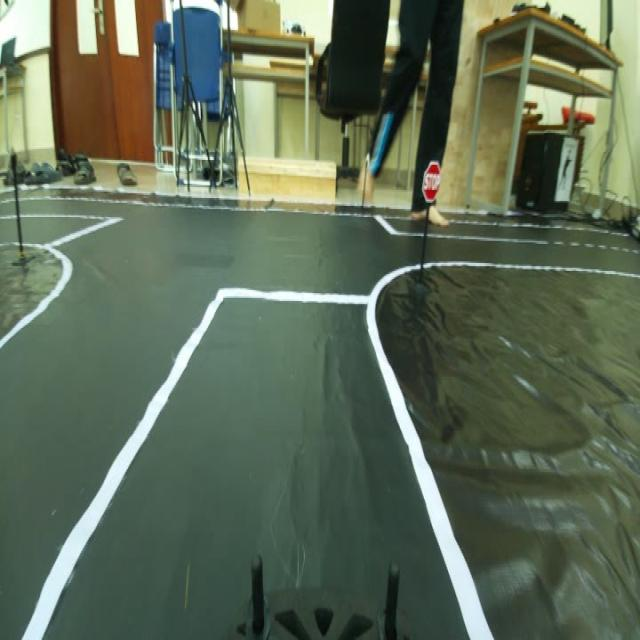stop: (418, 150, 445, 208)
